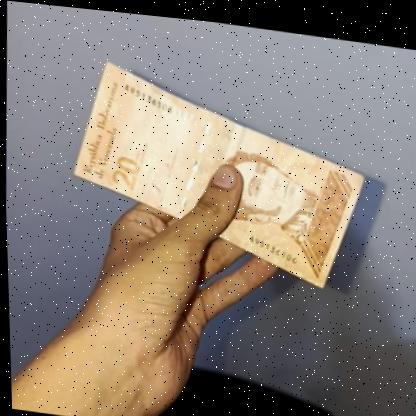vef_front: (66, 52, 372, 285)
